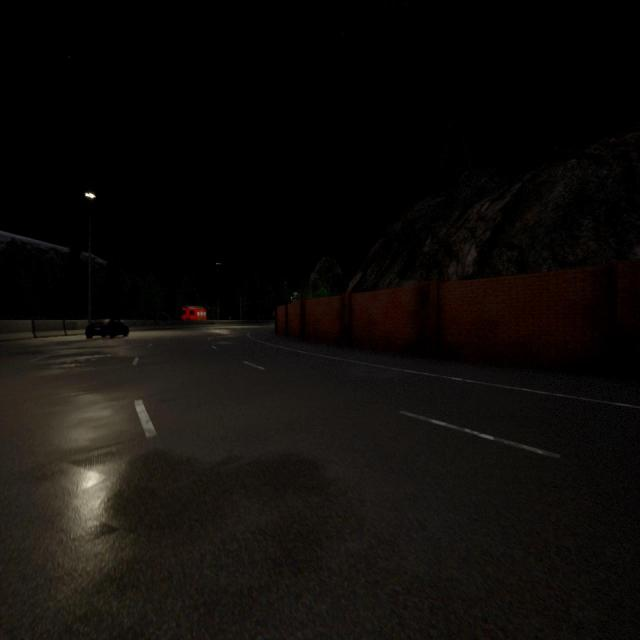Vehicle: (85, 318, 129, 340), (179, 306, 206, 321)
